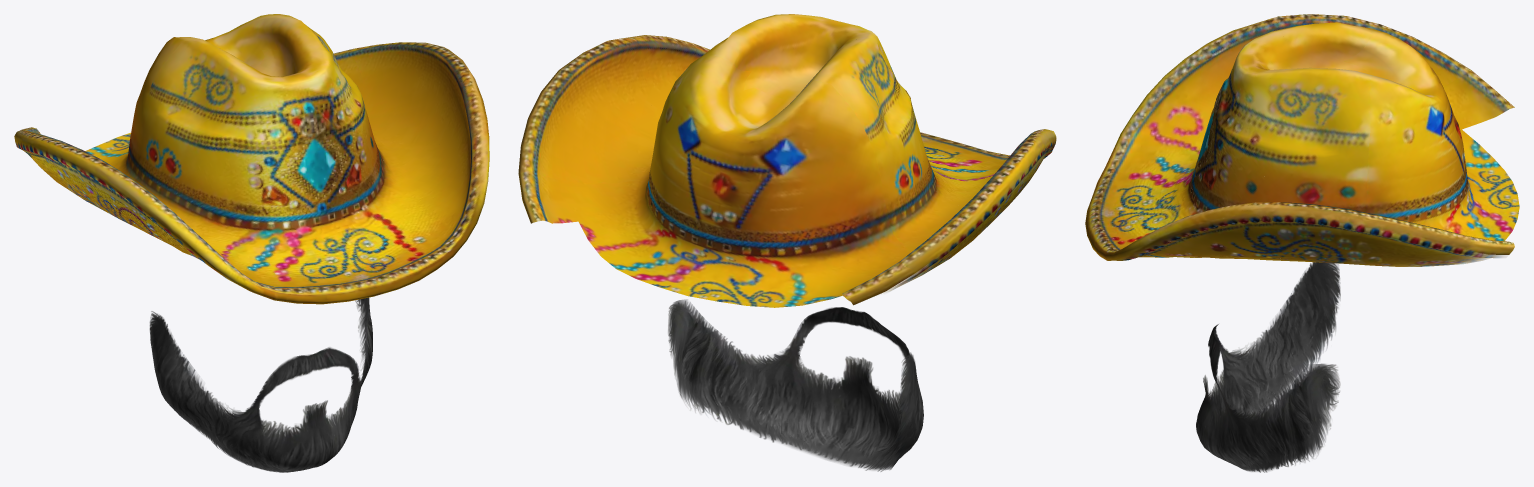
The model's file is somybarb.glb.
3 views of the same model, side by side, from view 1: azimuth 30°, elevation 25°; view 2: azimuth 150°, elevation 25°; view 3: azimuth 270°, elevation 25° (orthographic). The views are drawn at different scales.
Parts seen in each view (by area): view 1: sombrero, barba completa; view 2: sombrero, barba completa; view 3: sombrero, barba completa.
Part boxes in pixels (x1,y1,x2,y2): sombrero: (14,14,489,304); barba completa: (149,297,372,472); sombrero: (518,14,1056,307); barba completa: (668,299,923,471); sombrero: (1085,14,1519,266); barba completa: (1196,262,1340,472).
Size of the model in its own units: 0.4588 by 0.4405 by 0.4175.
3 materials, 3 textured.
